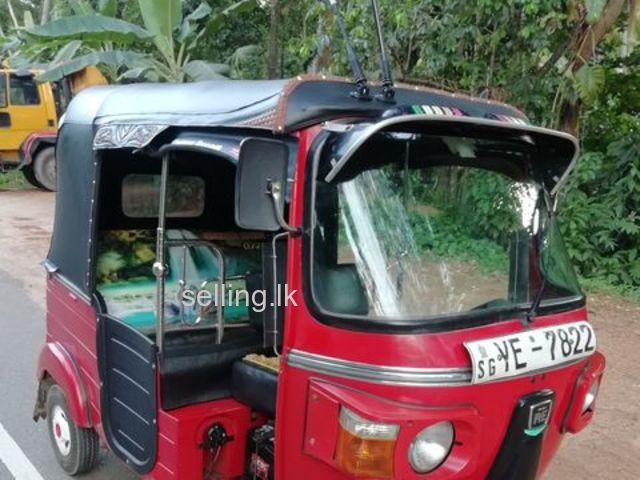threewheel: (33, 72, 606, 480)
